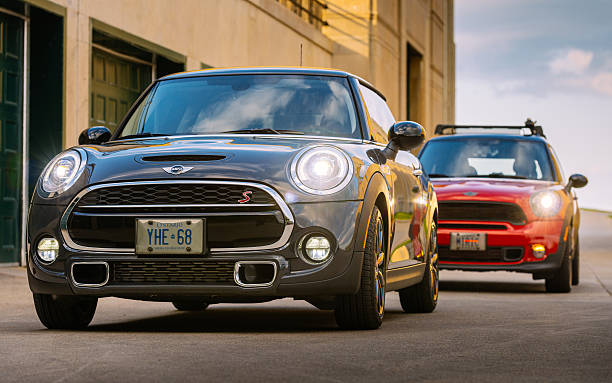licence: (133, 217, 207, 255)
